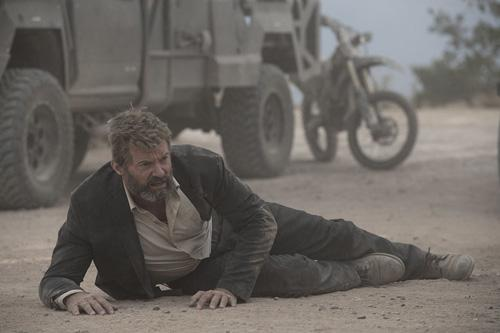fall: (15, 113, 494, 316)
